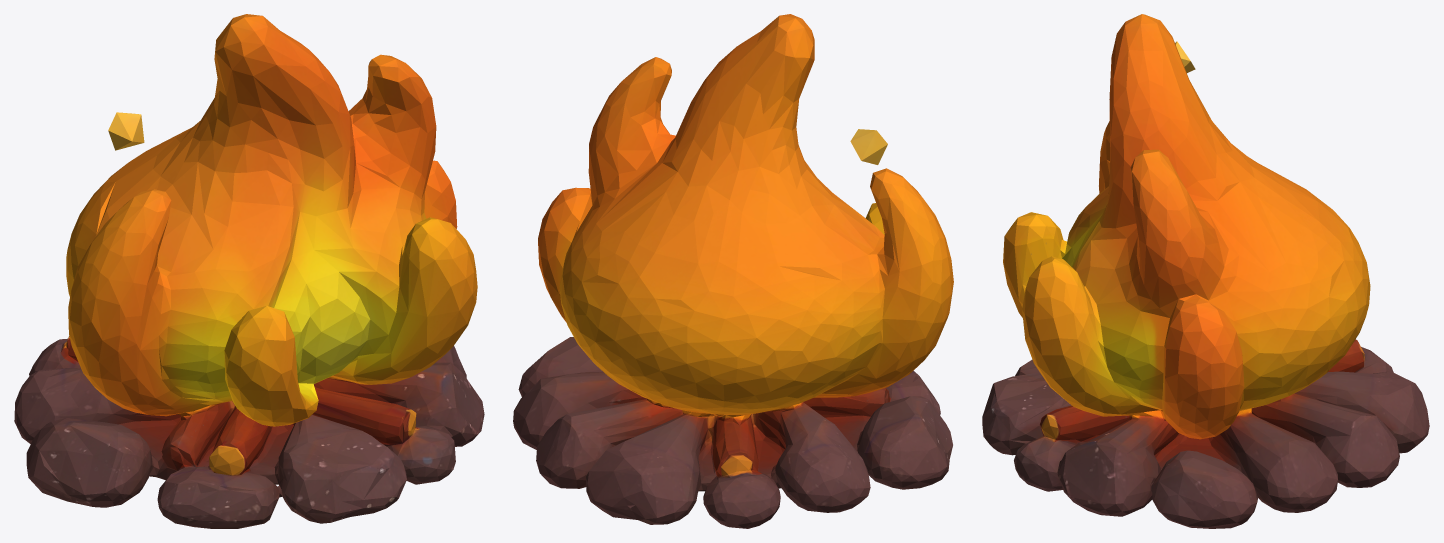
Rendered from deco_firepit.glb.
3 views of the same model, side by side, from view 1: azimuth 30°, elevation 25°; view 2: azimuth 150°, elevation 25°; view 3: azimuth 270°, elevation 25° (orthographic). The views are drawn at different scales.
Visible parts, largest first — view 1: world; view 2: world; view 3: world.
Boxes of the visible parts, bbox=[...] form: world: bbox=[14, 14, 484, 528]; world: bbox=[513, 14, 953, 528]; world: bbox=[982, 14, 1429, 528].
Bounding box in the file's own units: 1 × 0.9884 × 0.9656.
Materials: 1 (1 with a texture image).
